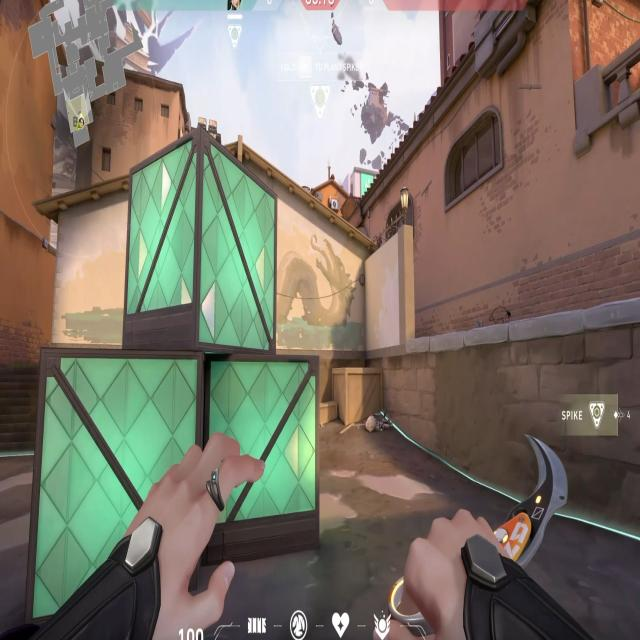B_Site_Box: (64, 151, 323, 565)
Throwables: (438, 97, 508, 220)
